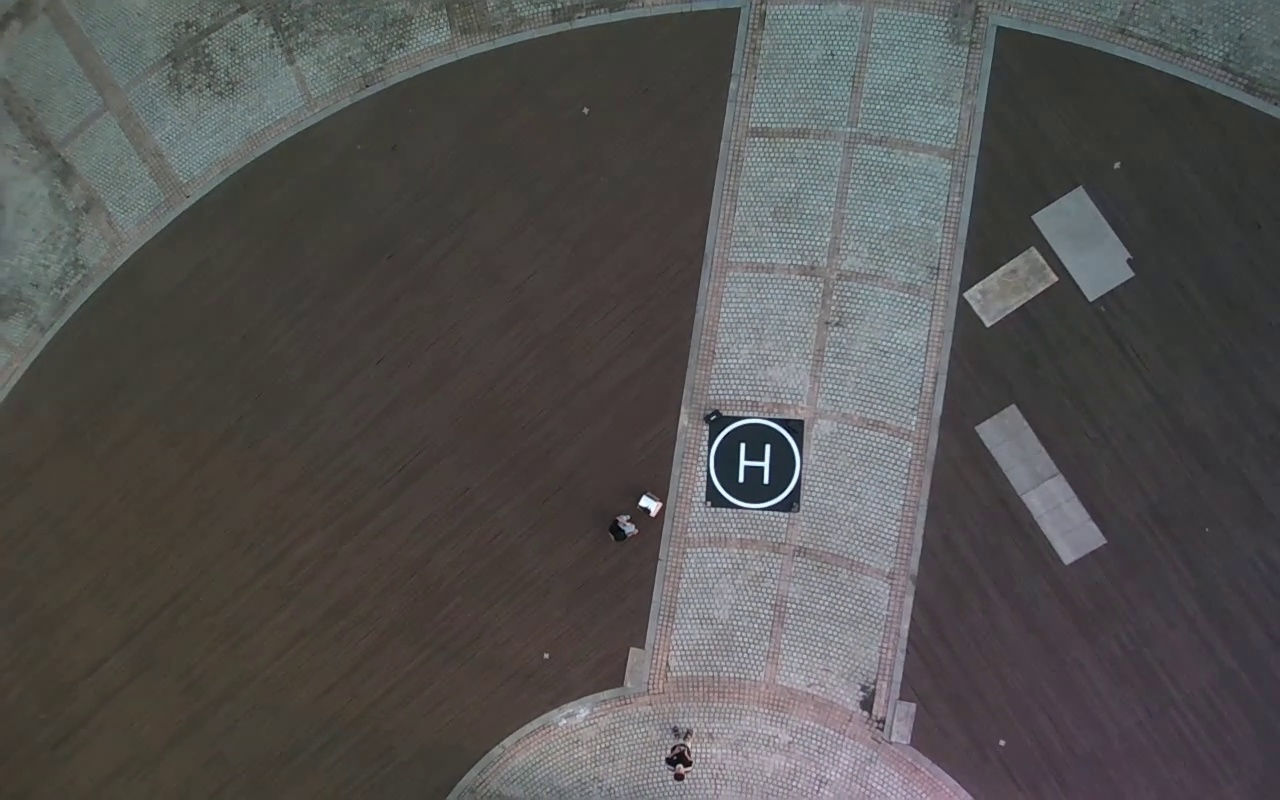H: (738, 441, 770, 484)
heliport: (710, 417, 801, 508)
